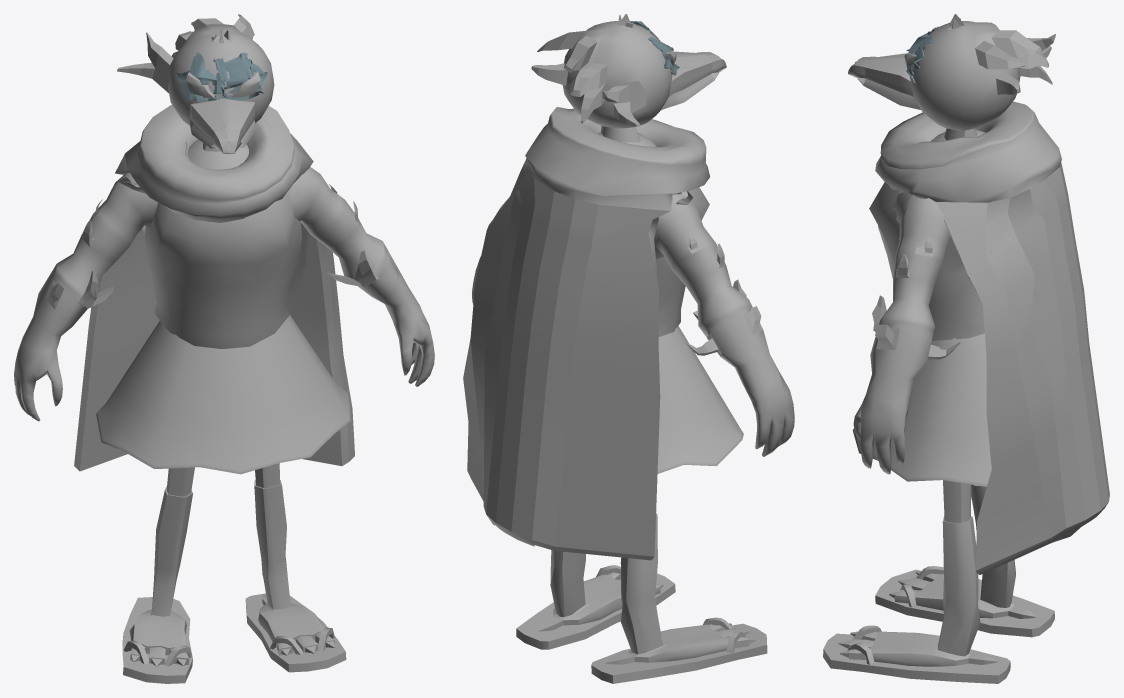
Rendered from forNow.fbx.
3 renders of one model, left to right at view 1: azimuth 30°, elevation 25°; view 2: azimuth 150°, elevation 25°; view 3: azimuth 270°, elevation 25°, orthographic. The views are drawn at different scales.
Parts seen in each view (by area): view 1: pTorus1, toga, breastplate, pcube, pcube4a, polySurface10, polySurface12, pSphere1, pCube1, pCube3, pSphere2; view 2: pTorus1, pcube, pSphere1, polySurface10, toga, polySurface12, pCube1, breastplate; view 3: pTorus1, pcube4a, polySurface12, toga, pSphere1, polySurface10, breastplate, pCube1, pCube3.
Boxes of the visible parts, bbox=[...] form: pTorus1: bbox=[74, 105, 354, 471]; toga: bbox=[96, 314, 350, 474]; breastplate: bbox=[145, 140, 301, 348]; pcube: bbox=[14, 172, 157, 421]; pcube4a: bbox=[288, 167, 434, 386]; polySurface10: bbox=[122, 467, 194, 683]; polySurface12: bbox=[245, 463, 346, 672]; pSphere1: bbox=[117, 14, 274, 151]; pCube1: bbox=[189, 98, 254, 154]; pCube3: bbox=[176, 52, 267, 102]; pSphere2: bbox=[188, 139, 248, 169]; pTorus1: bbox=[463, 107, 709, 560]; pcube: bbox=[654, 193, 794, 456]; pSphere1: bbox=[531, 14, 672, 142]; polySurface10: bbox=[591, 513, 767, 683]; toga: bbox=[657, 326, 743, 473]; polySurface12: bbox=[516, 550, 675, 649]; pCube1: bbox=[661, 51, 726, 110]; breastplate: bbox=[656, 187, 709, 336]; pTorus1: bbox=[875, 101, 1109, 574]; pcube4a: bbox=[853, 192, 960, 474]; polySurface12: bbox=[823, 480, 1010, 683]; toga: bbox=[852, 333, 991, 486]; pSphere1: bbox=[909, 14, 1055, 140]; polySurface10: bbox=[875, 484, 1054, 637]; breastplate: bbox=[869, 181, 984, 340]; pCube1: bbox=[848, 53, 920, 109]; pCube3: bbox=[906, 22, 949, 82].
Size of the model in its own units: 7.6 by 12.45 by 5.16.
